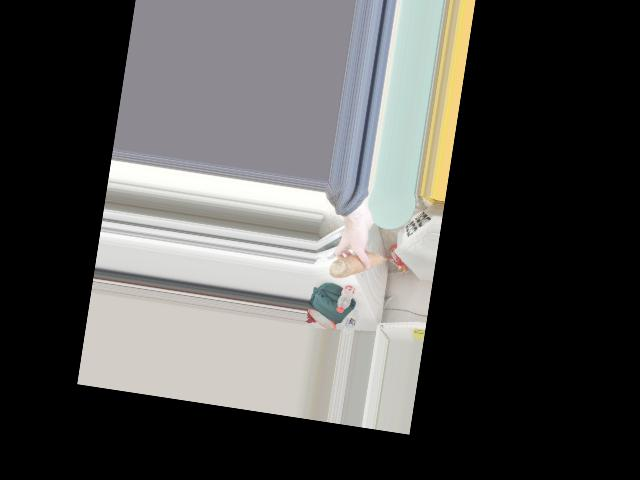sweet_potato: (331, 242, 384, 286)
